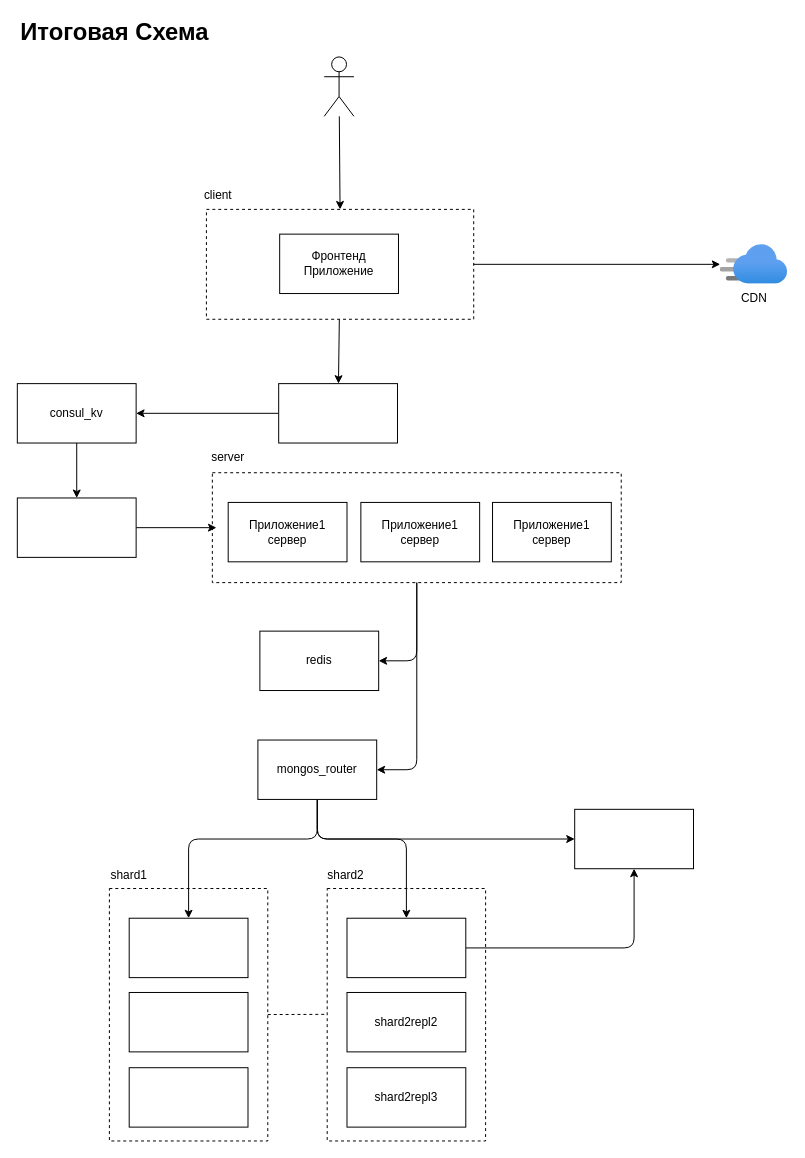
The diagram is 805 pixels wide and 1158 high, and some of its shapes have lost their labels. Here are the shapes that lost their labels. From the top down, the centre of each, then its label:
point (338, 86): Пользователь
point (337, 413): Api Gateway
point (76, 527): Consul
point (633, 838): configSrv
point (188, 947): shard1repl1
point (406, 947): shard2repl1
